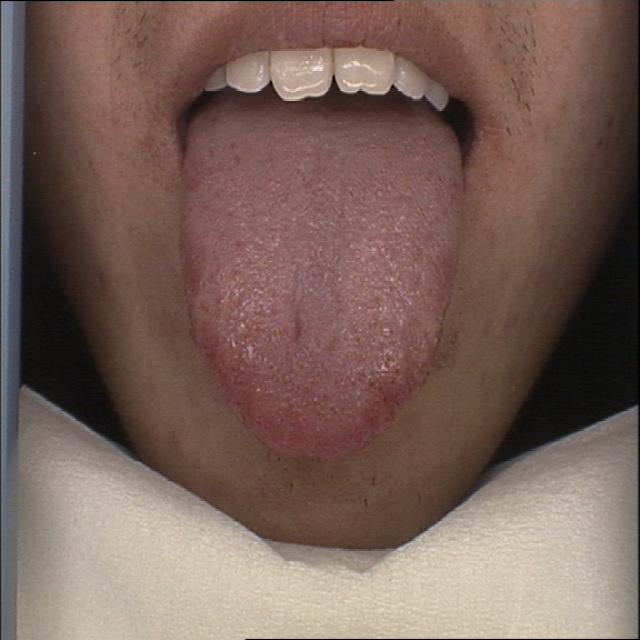tongue: (173, 99, 467, 468)
